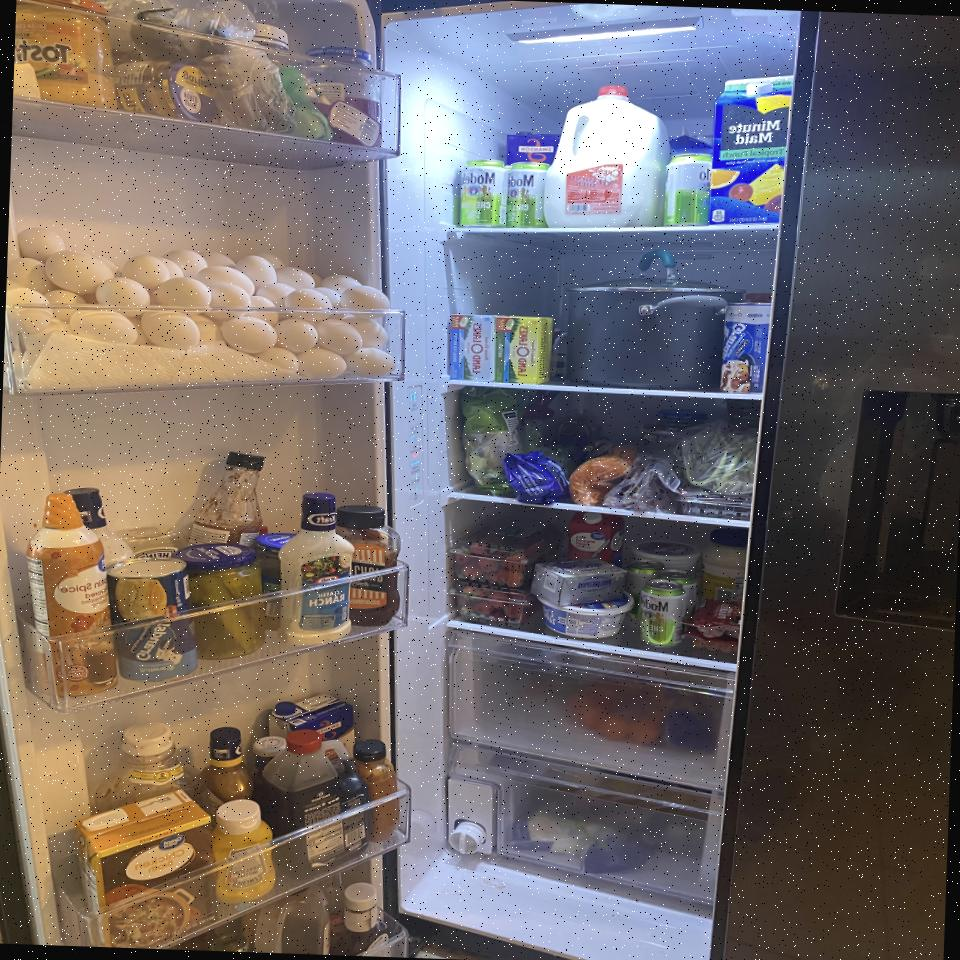Huevos: (4, 225, 400, 387)
Leche: (543, 82, 668, 232)
